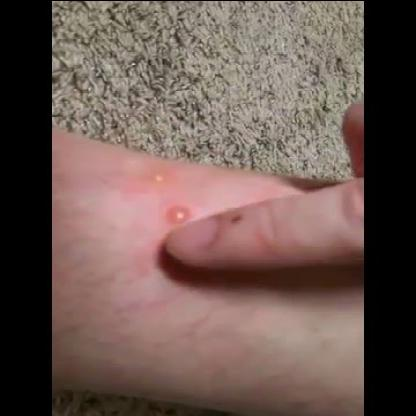Fire ant: (165, 206, 201, 224), (148, 166, 174, 188)
